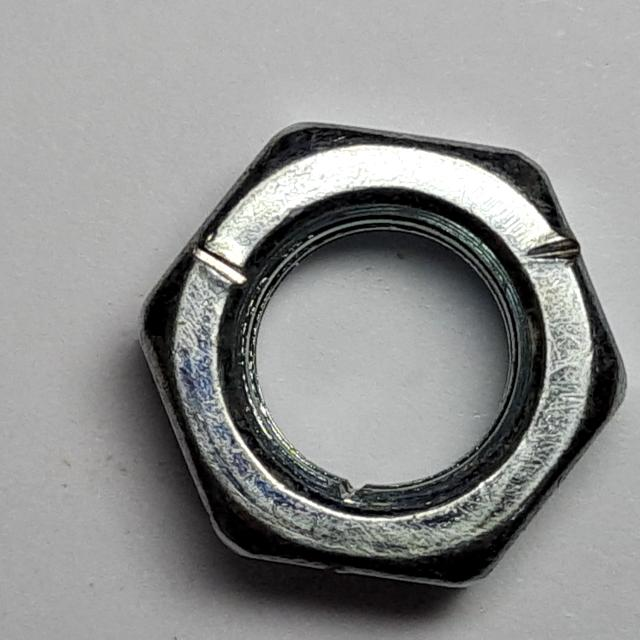Scratches: (121, 111, 636, 600)
